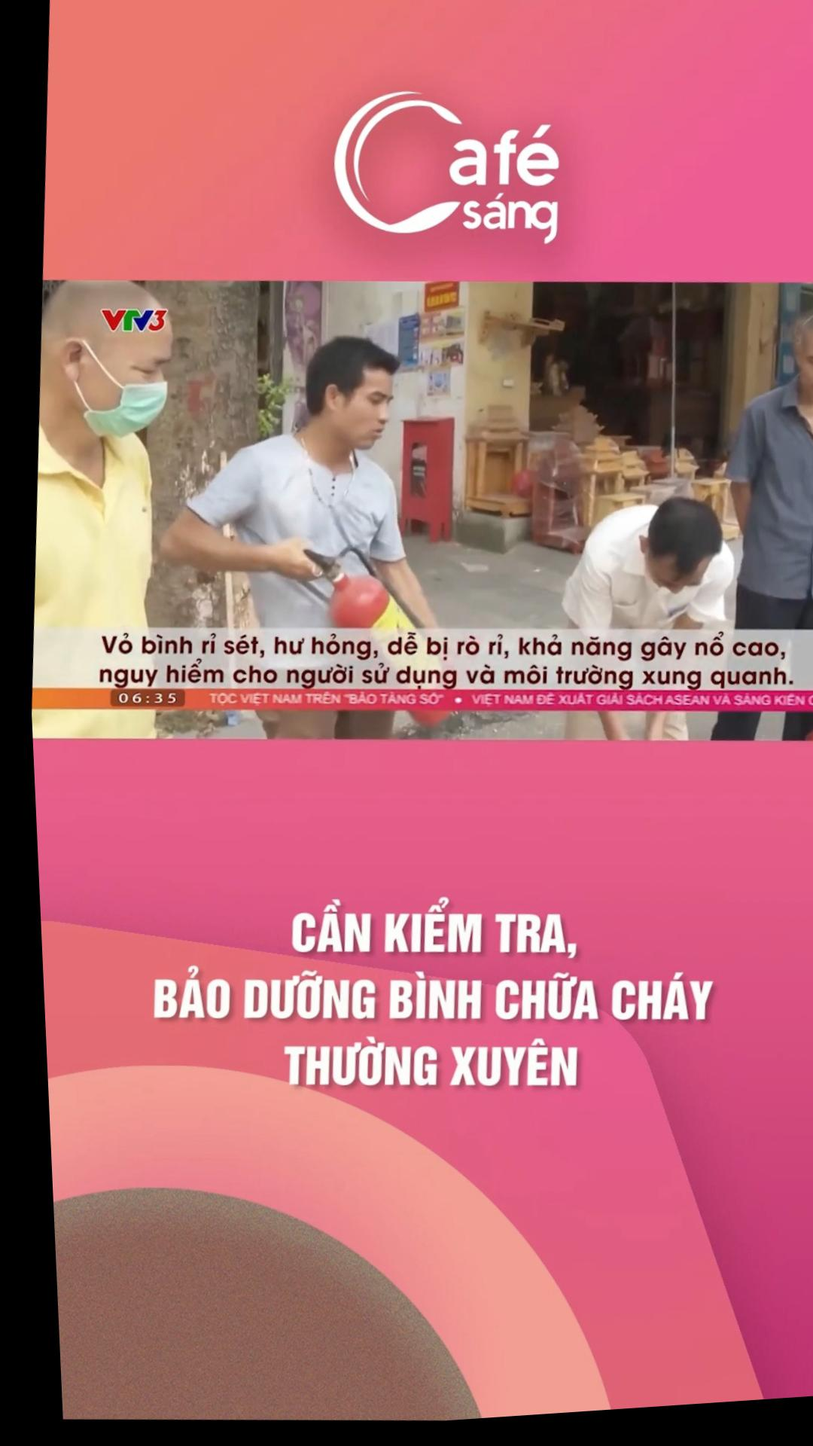FireExtinguisher: (297, 545, 469, 744)
not: (383, 404, 472, 564), (483, 448, 542, 546), (625, 442, 699, 512)
